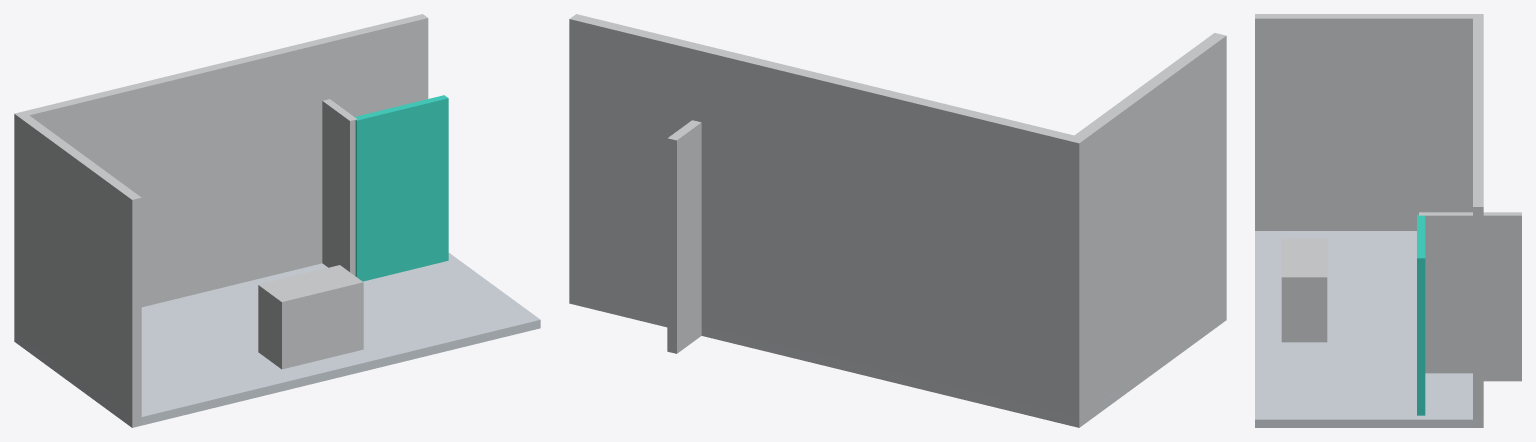
The picture shows the model from 3 angles, left to right: view 1: azimuth 30°, elevation 25°; view 2: azimuth 150°, elevation 25°; view 3: azimuth 270°, elevation 25°; orthographic projection. The views are drawn at different scales.
Parts seen in each view (by area): view 1: Exhibition Booth Concept; view 2: Exhibition Booth Concept; view 3: Exhibition Booth Concept.
Part boxes in pixels (box(x1,y1,x2,y2)): Exhibition Booth Concept: box(14, 14, 540, 427); Exhibition Booth Concept: box(569, 14, 1226, 427); Exhibition Booth Concept: box(1255, 14, 1521, 427).
Size of the model in its own units: 6 by 3.2 by 3.51.
